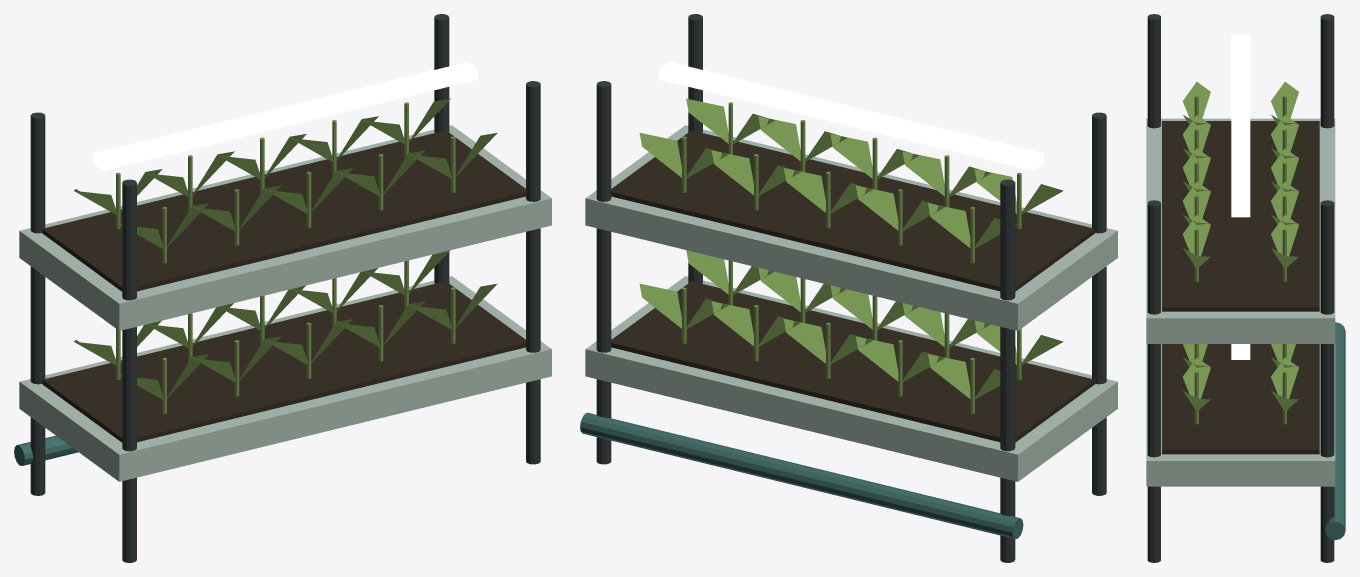
Rendered from hydroponic_rack.glb.
3 views of the same model, side by side, from view 1: azimuth 30°, elevation 25°; view 2: azimuth 150°, elevation 25°; view 3: azimuth 270°, elevation 25° (orthographic). The views are drawn at different scales.
Visible parts, largest first — view 1: soil.001, soil.002, WALL_grow_tray, WALL_grow_tray.001, grow_light.001, rack_leg.003, rack_leg.001, rack_leg, rack_leg.002, feed_pipe; view 2: soil.001, soil.002, WALL_grow_tray.001, WALL_grow_tray, feed_pipe, grow_light.001, rack_leg, rack_leg.002, rack_leg.001, rack_leg.003, leaf.051, leaf.029 (+16 smaller); view 3: soil.002, soil.001, WALL_grow_tray.001, WALL_grow_tray, rack_leg.002, rack_leg.003, grow_light.001, feed_pipe, rack_leg, rack_leg.001, leaf.028, leaf.048 (+13 smaller).
Part boxes in pixels (left/top/right/bottom): soil.001: left=42, top=281, right=525, bottom=442; soil.002: left=42, top=130, right=525, bottom=291; WALL_grow_tray: left=19, top=276, right=551, bottom=481; WALL_grow_tray.001: left=19, top=125, right=551, bottom=330; grow_light.001: left=93, top=62, right=477, bottom=170; rack_leg.003: left=526, top=81, right=540, bottom=464; rack_leg.001: left=122, top=179, right=136, bottom=562; rack_leg: left=30, top=112, right=45, bottom=495; rack_leg.002: left=434, top=14, right=449, bottom=283; feed_pipe: left=14, top=435, right=78, bottom=465; soil.001: left=611, top=281, right=1095, bottom=442; soil.002: left=611, top=130, right=1095, bottom=291; WALL_grow_tray.001: left=585, top=125, right=1117, bottom=330; WALL_grow_tray: left=585, top=276, right=1117, bottom=481; feed_pipe: left=580, top=412, right=1023, bottom=539; grow_light.001: left=659, top=62, right=1043, bottom=170; rack_leg: left=1000, top=179, right=1015, bottom=562; rack_leg.002: left=596, top=81, right=611, bottom=464; rack_leg.001: left=1092, top=112, right=1106, bottom=495; rack_leg.003: left=688, top=14, right=702, bottom=283; leaf.051: left=686, top=98, right=728, bottom=143; leaf.029: left=639, top=283, right=681, bottom=328; soil.002: left=1162, top=121, right=1319, bottom=311; soil.001: left=1162, top=344, right=1319, bottom=454; WALL_grow_tray.001: left=1146, top=118, right=1335, bottom=343; WALL_grow_tray: left=1146, top=344, right=1335, bottom=486; rack_leg.002: left=1320, top=200, right=1334, bottom=562; rack_leg.003: left=1147, top=200, right=1160, bottom=562; grow_light.001: left=1231, top=34, right=1250, bottom=217; feed_pipe: left=1325, top=322, right=1345, bottom=540; rack_leg: left=1320, top=14, right=1334, bottom=128; rack_leg.001: left=1147, top=14, right=1160, bottom=128; leaf.028: left=1271, top=357, right=1298, bottom=398; leaf.048: left=1271, top=215, right=1298, bottom=255.
Bounding box in the file's own units: 3 × 2.5 × 1.27.
